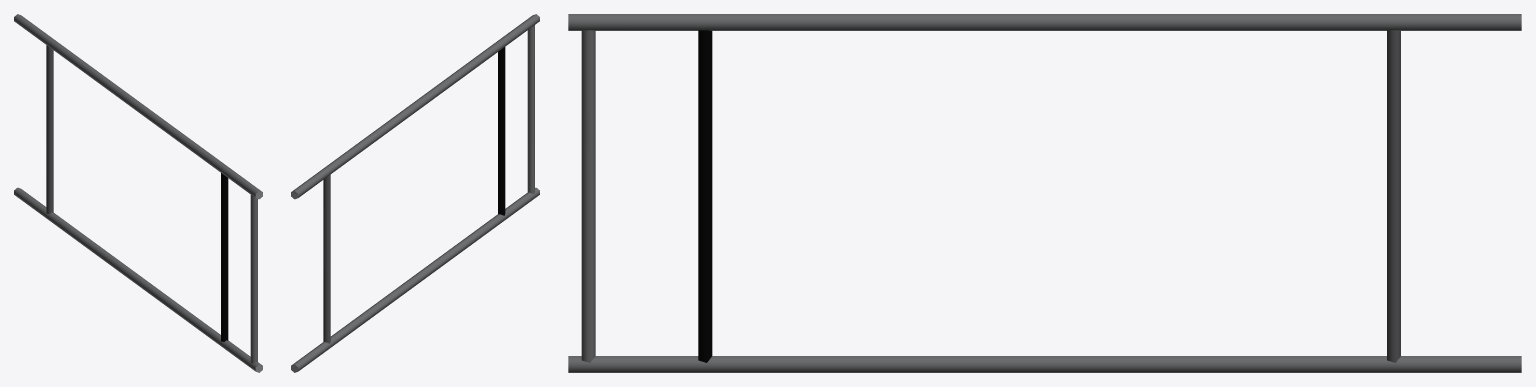
3 views of the same model, side by side, from view 1: azimuth 30°, elevation 25°; view 2: azimuth 150°, elevation 25°; view 3: azimuth 270°, elevation 25° (orthographic). The views are drawn at different scales.
Bounding box in the file's own units: 0.0416 × 1.02 × 2.45.
